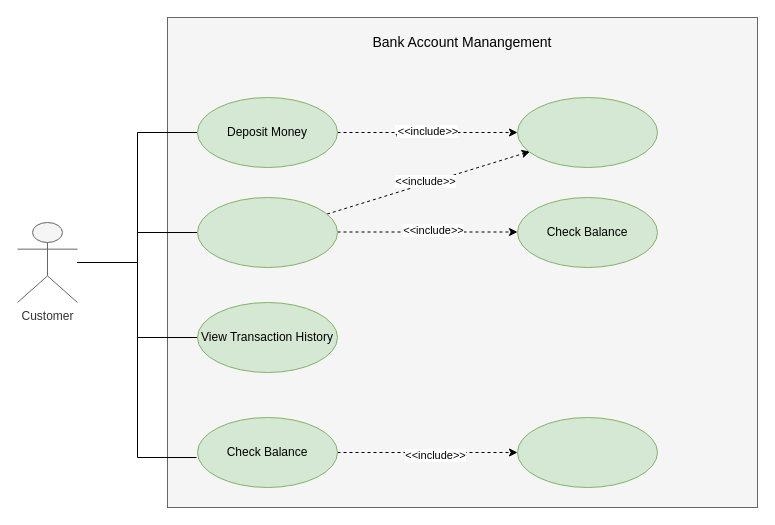
This 775x525 diagram has some shape labels left out. Here are the shapes that lost their labels. From the top down, the centre of each, then its label:
At (587,132): "Record Transaction".
At (267,232): "Withdraw Money".
At (587,452): "Calculate Interest".
